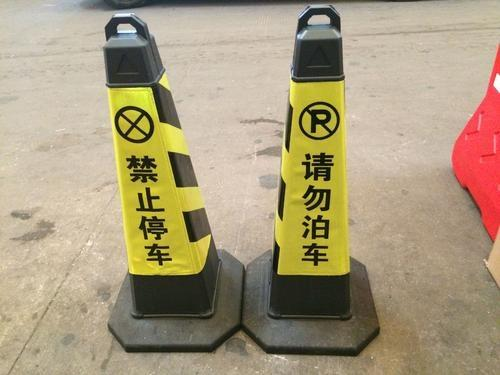cone_barrel: (84, 13, 235, 328), (250, 9, 372, 328)
